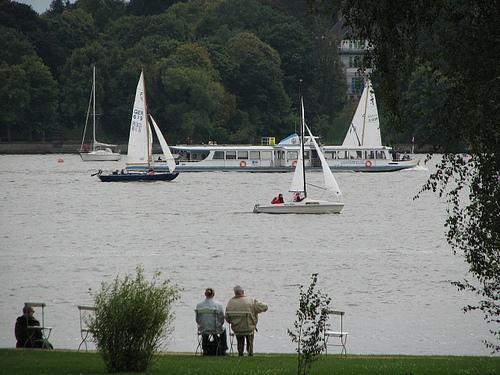Ship: (255, 95, 347, 219), (100, 71, 185, 184), (128, 146, 416, 173), (343, 75, 412, 173), (81, 66, 122, 161)
